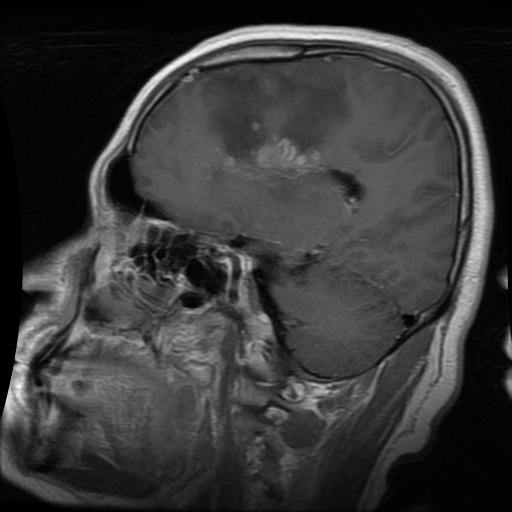glioma: (204, 76, 345, 169)
